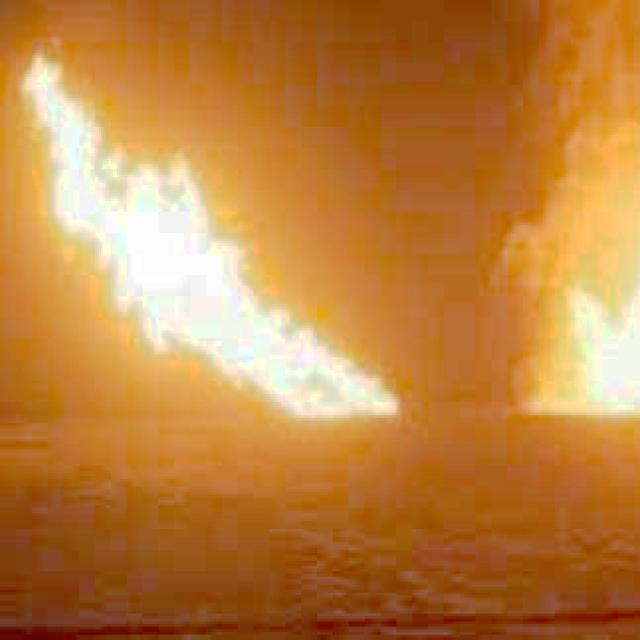api: (32, 69, 401, 427), (579, 266, 640, 425)
asap: (472, 194, 572, 417), (533, 18, 640, 186)
